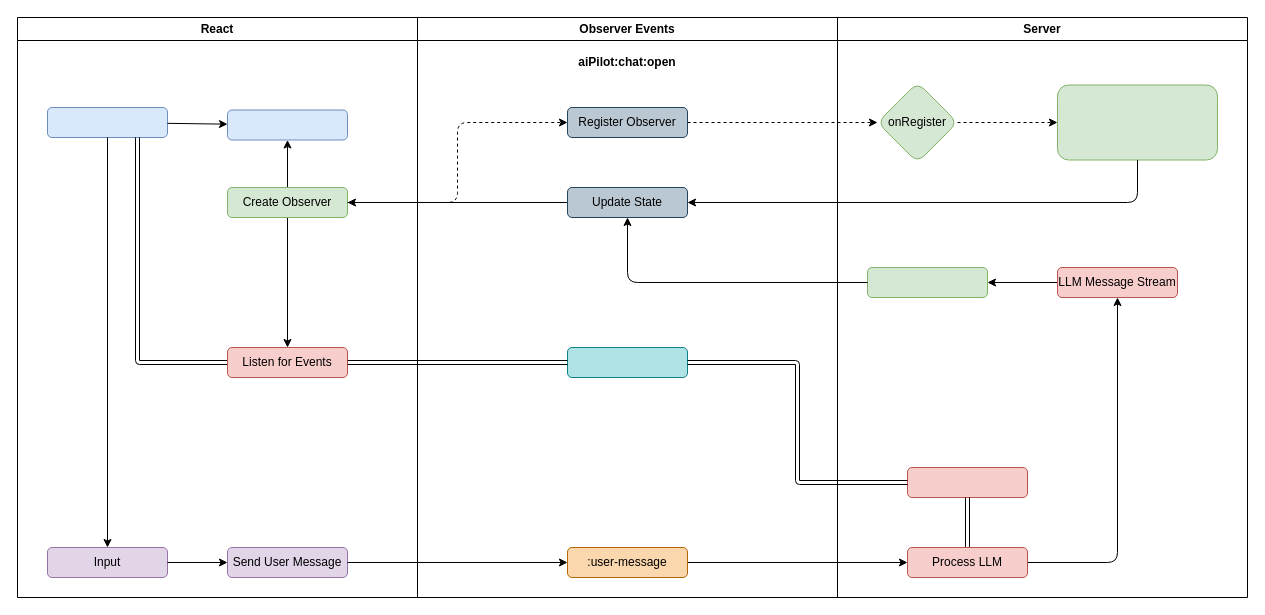
Image size: 1265x615. Some labels were removed from this diagram. Here are the shapes that lost their labels. From the top down, the centre of each, then its label:
At point 107,122: "Open AI Chat / Editor".
At point 287,124: "Chat State".
At point 1137,122: "Send Chat Info - Chat Messages - LLMs available".
At point 927,282: "Send Messages".
At point 627,362: ":get-html".
At point 967,482: "Process Resources".
